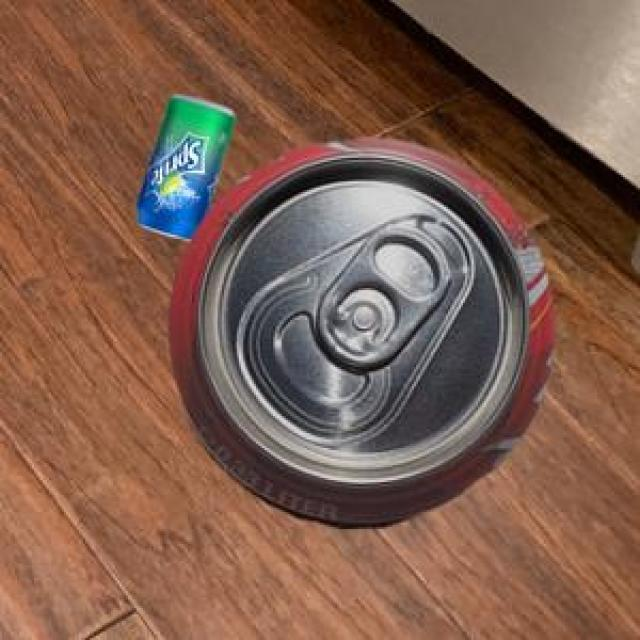Can: (167, 135, 551, 526), (135, 91, 231, 238)
